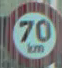Speed limit: (4, 3, 54, 61)
